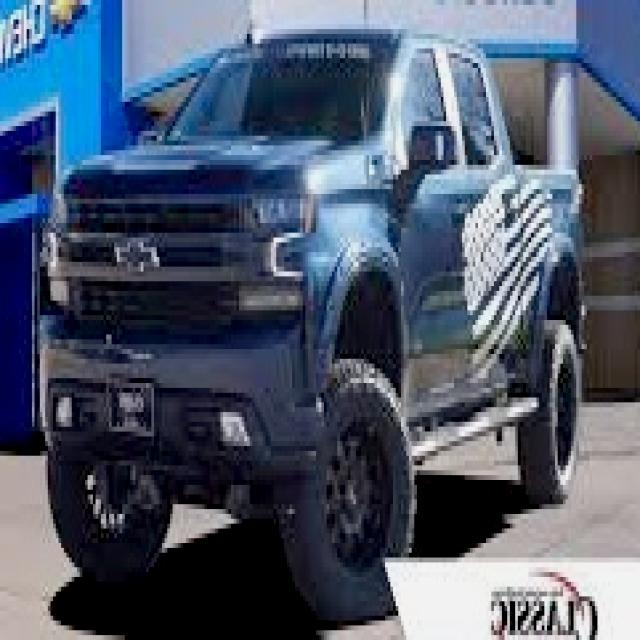blue: (39, 3, 582, 584)
